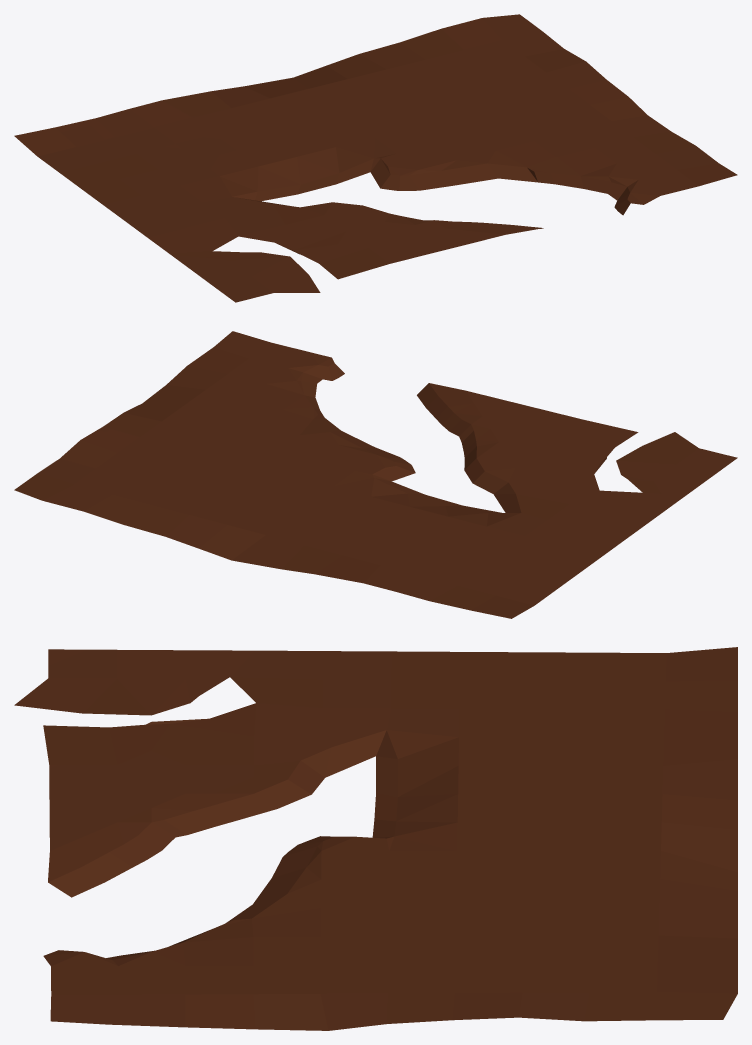
File: landscape.glb
3 views of the same model, one above another, from view 1: azimuth 30°, elevation 25°; view 2: azimuth 150°, elevation 25°; view 3: azimuth 270°, elevation 25° (orthographic). The views are drawn at different scales.
Parts seen in each view (by area): view 1: Main Land_Low Poly; view 2: Main Land_Low Poly; view 3: Main Land_Low Poly.
Part boxes in pixels (x1,y1,x2,y2): Main Land_Low Poly: (14,14,737,302); Main Land_Low Poly: (14,331,737,618); Main Land_Low Poly: (14,647,737,1030).
Bounding box in the file's own units: 18.19 × 0.6016 × 14.65.
